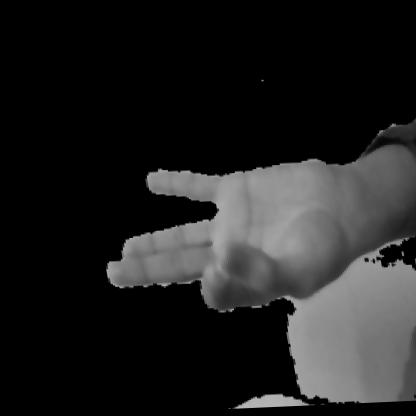ok: (73, 103, 377, 347)
